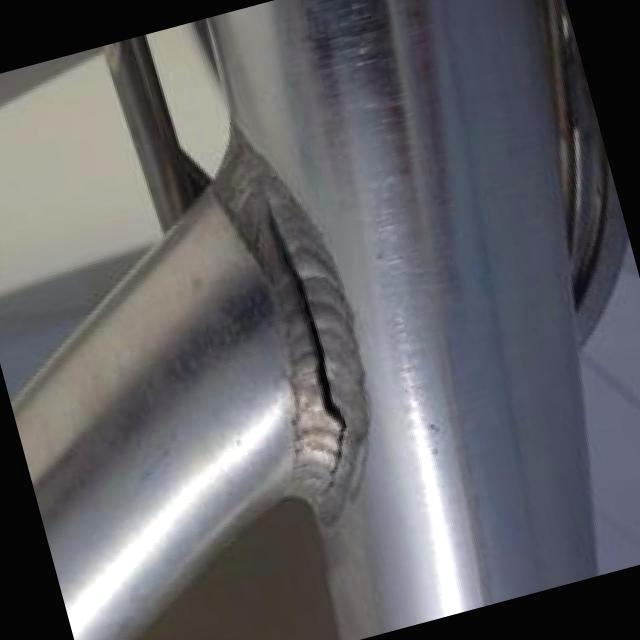defect: (264, 199, 350, 502)
